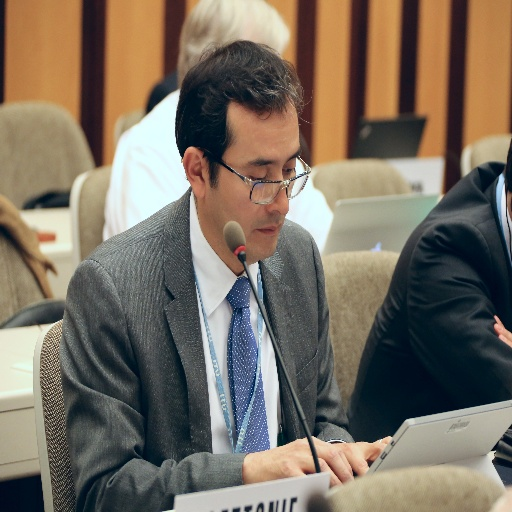hand: (225, 422, 381, 500), (331, 437, 390, 477), (493, 313, 511, 347)
